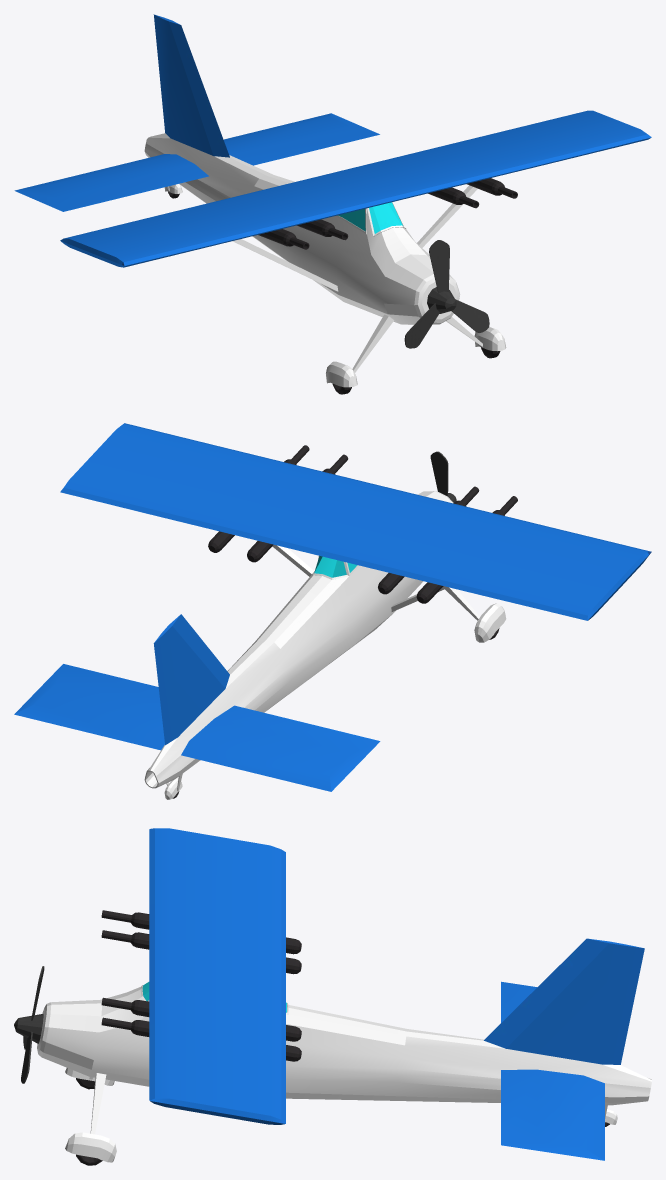
3 renders of one model, top to bottom at view 1: azimuth 30°, elevation 25°; view 2: azimuth 150°, elevation 25°; view 3: azimuth 270°, elevation 25°, orthographic. The views are drawn at different scales.
Visible parts, largest first — view 1: Plane2, Motor; view 2: Plane2, Motor; view 3: Plane2, Motor.
Part boxes in pixels (x1,y1,x2,y2): Plane2: (14, 14, 651, 394); Motor: (404, 240, 489, 348); Plane2: (14, 423, 651, 799); Motor: (430, 451, 456, 502); Plane2: (37, 828, 651, 1165); Motor: (14, 966, 44, 1083).
Size of the model in its own units: 654 by 211 by 649.
1 material, 1 textured.
